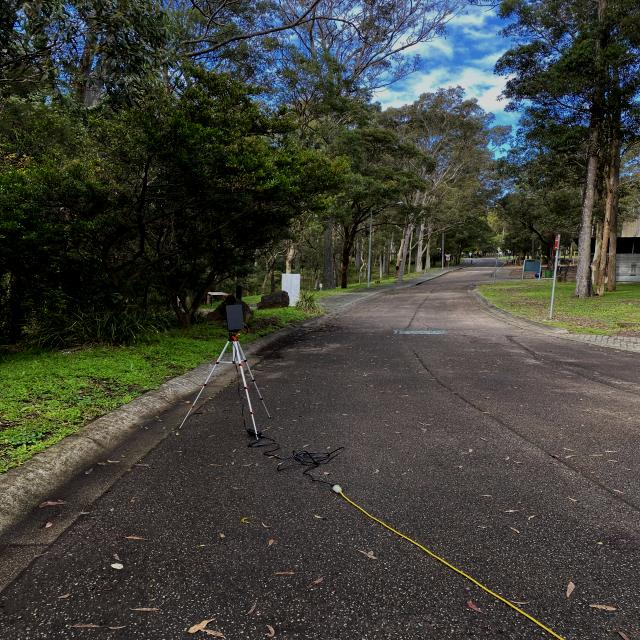matrix: (222, 301, 249, 332)
